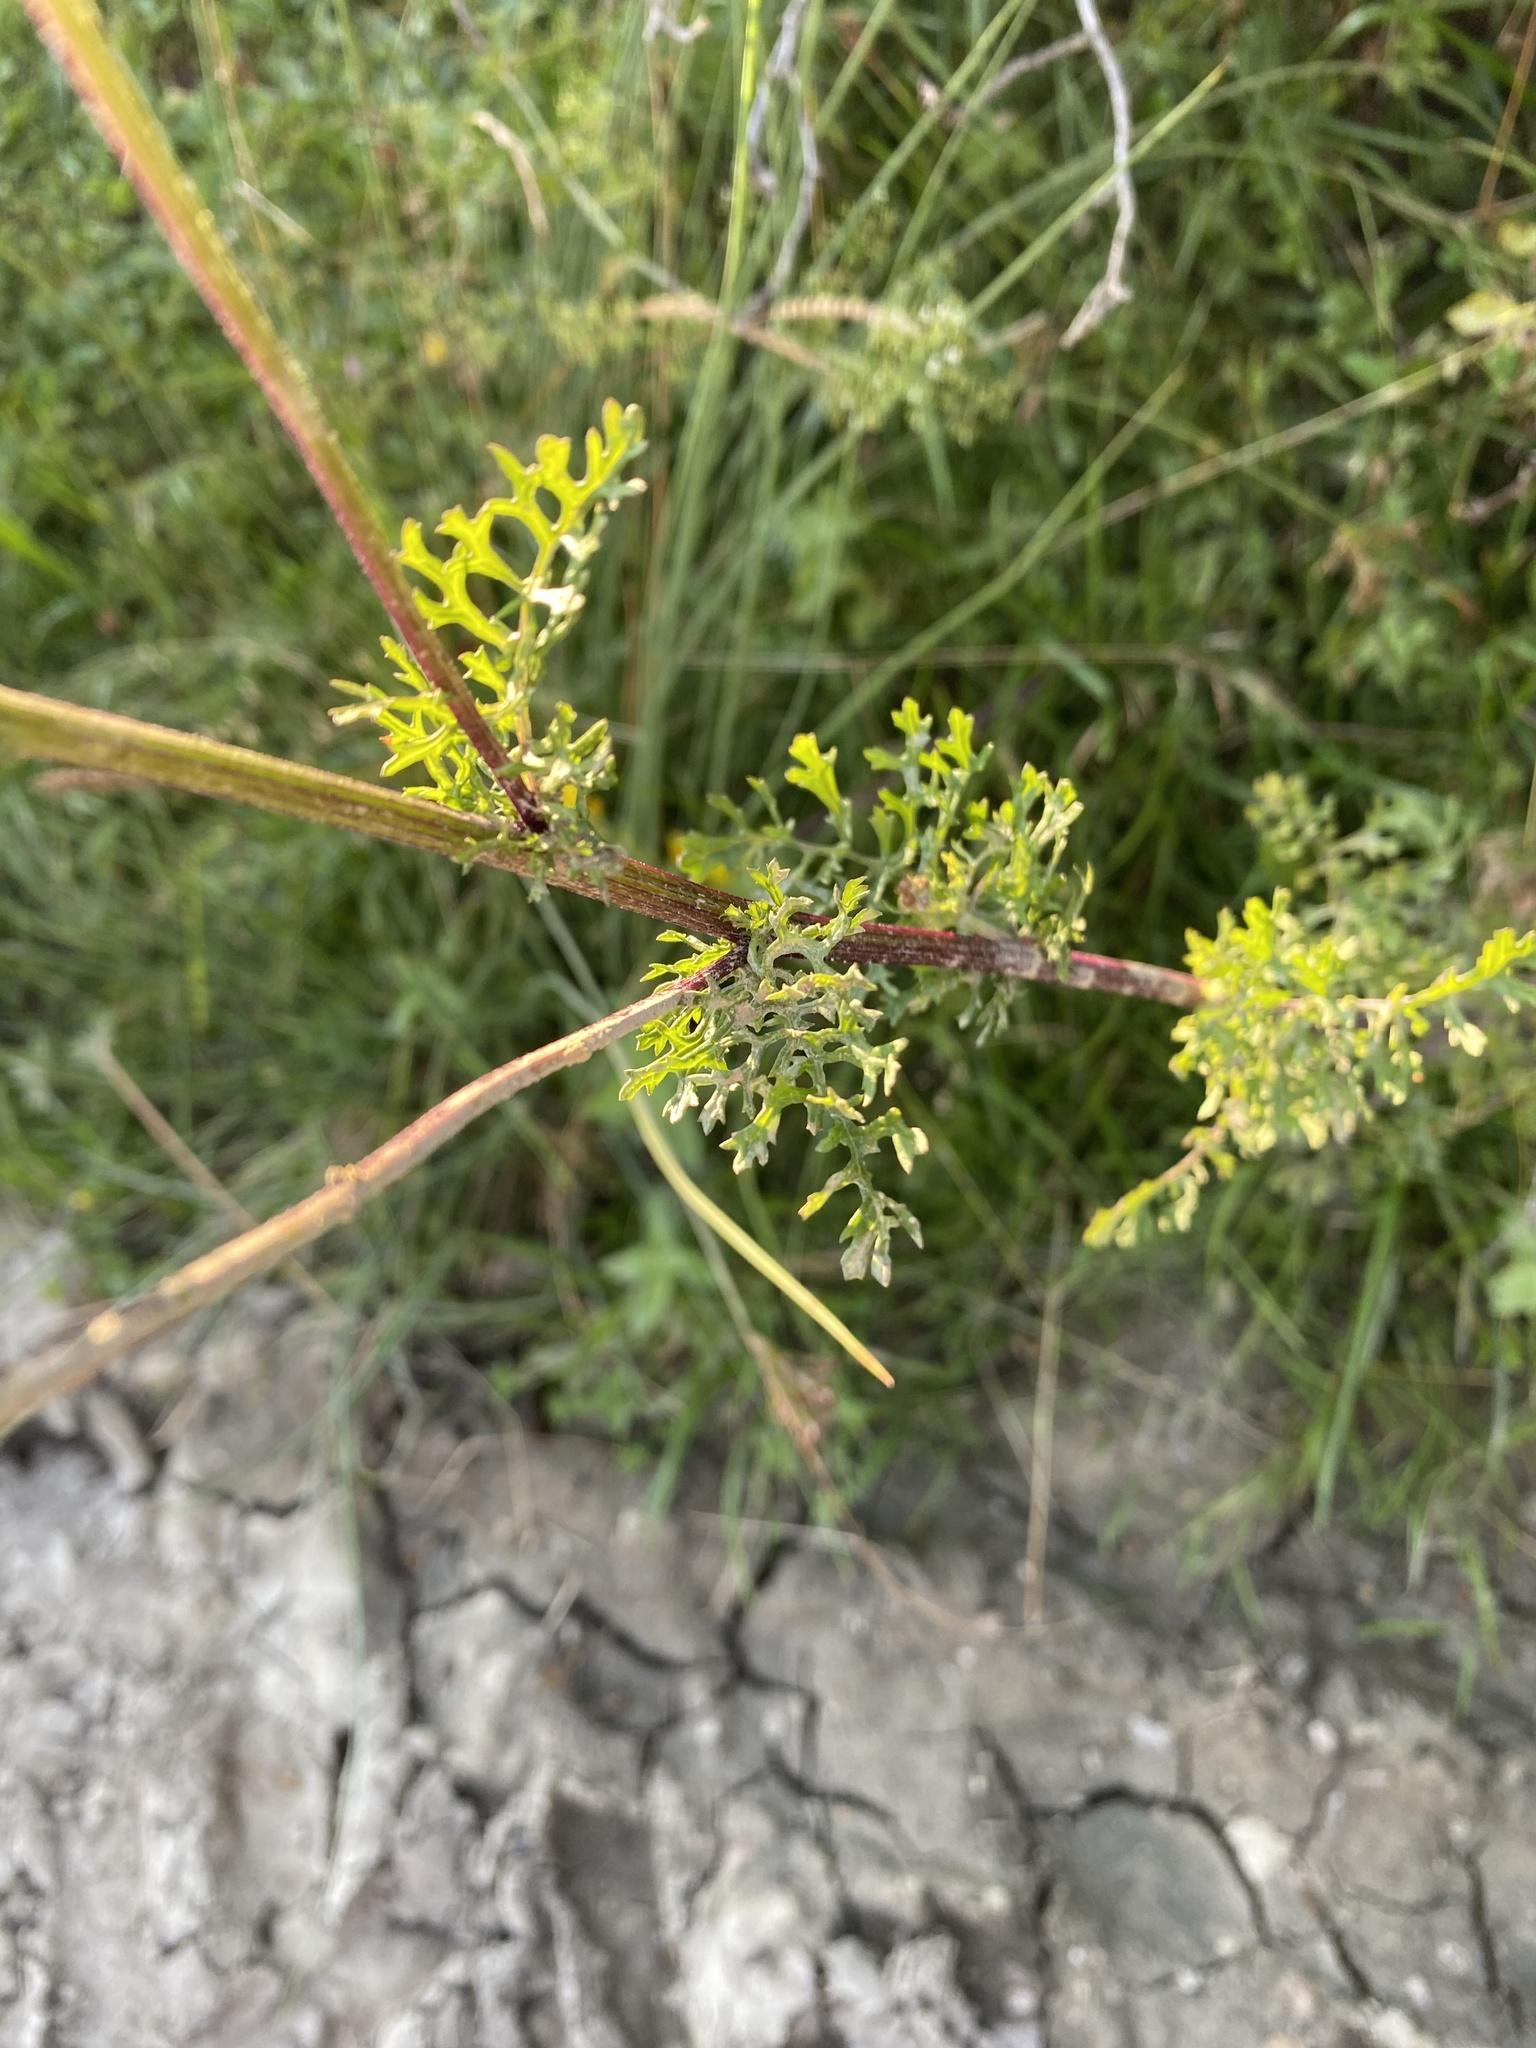Jacobaea vulgaris: (0, 356, 1536, 1447)
